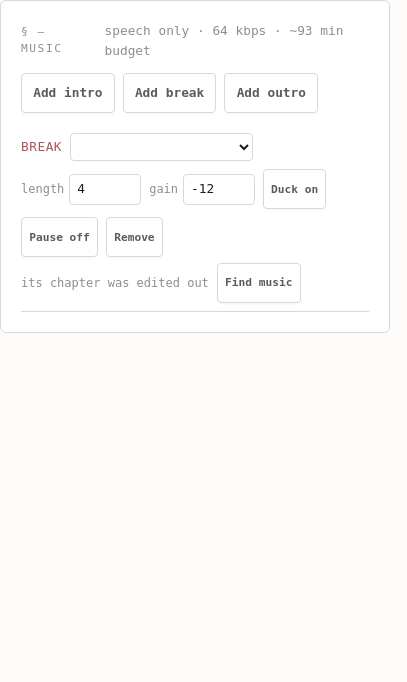
it: MusicSlotPanel on a phone › keeps the finder and its results inside the viewport when searching cicada
Click the button "Find music" at x=259, y=283, box x1=217 y1=263 x2=300 y2=303
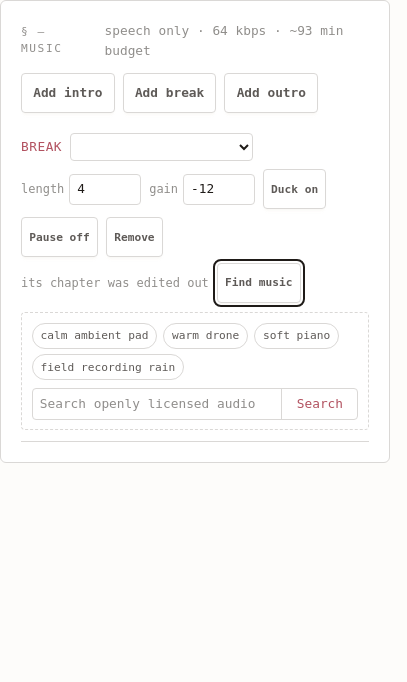
Type "cicada" into the search field with placeholder "Search openly licensed audio" at x=157, y=404, box x1=33 y1=389 x2=281 y2=418
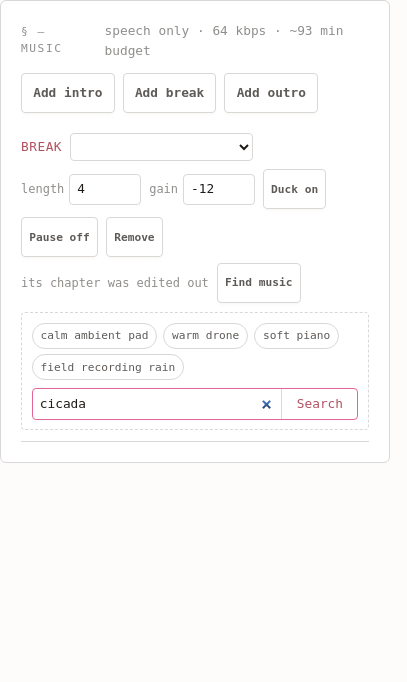
Click the button "Search" at x=319, y=404, box x1=281 y1=389 x2=357 y2=418
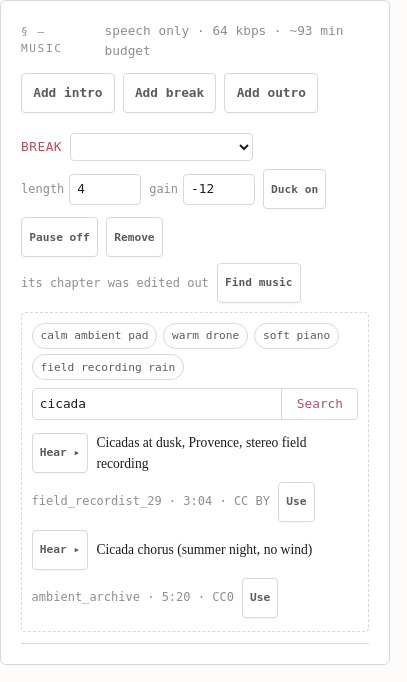
Now the text "Cicada chorus (summer night, no wind)" is shown, box x1=96 y1=542 x2=312 y2=557
